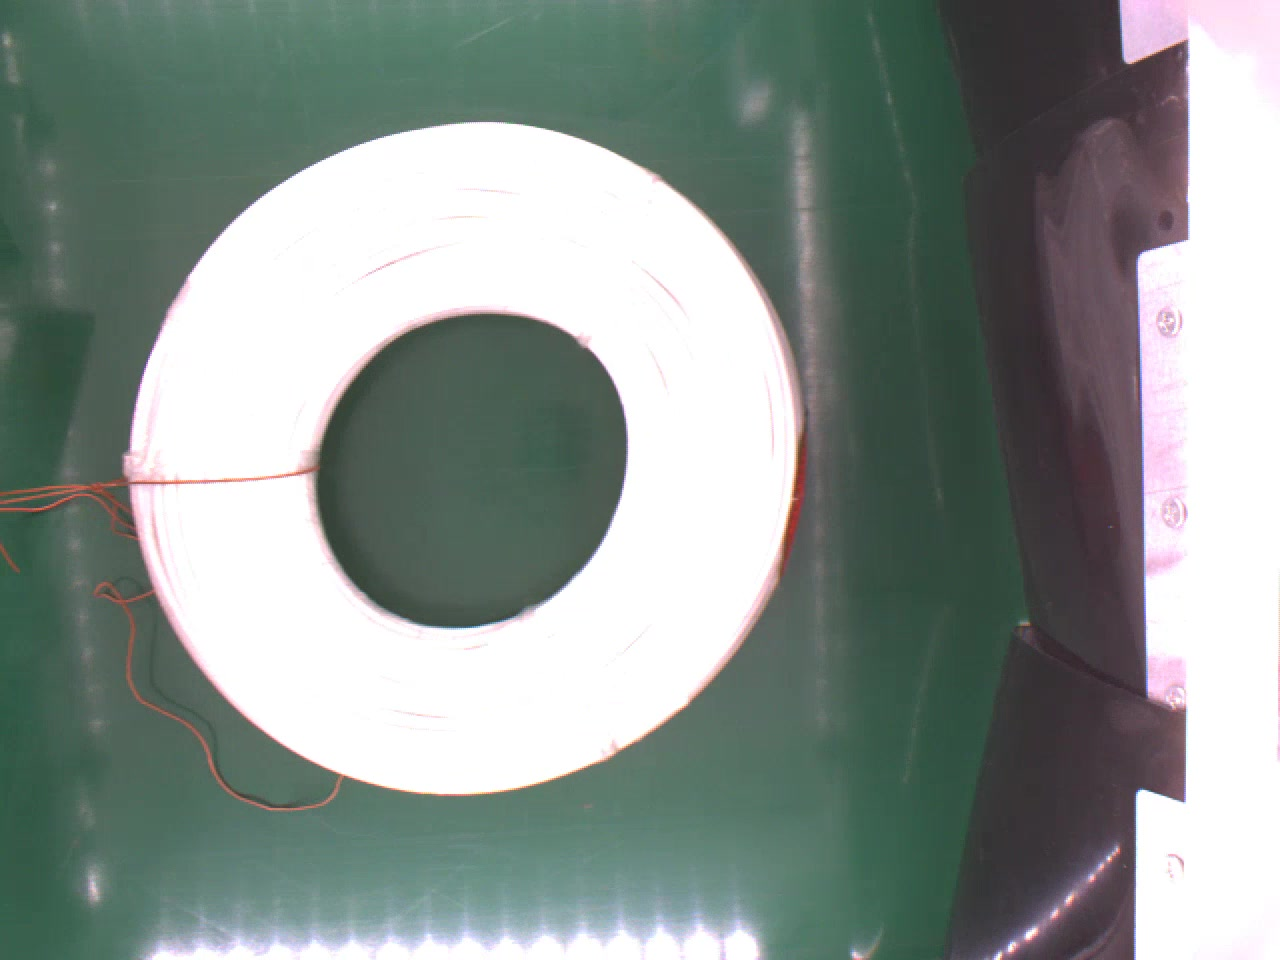white: (123, 112, 798, 795)
